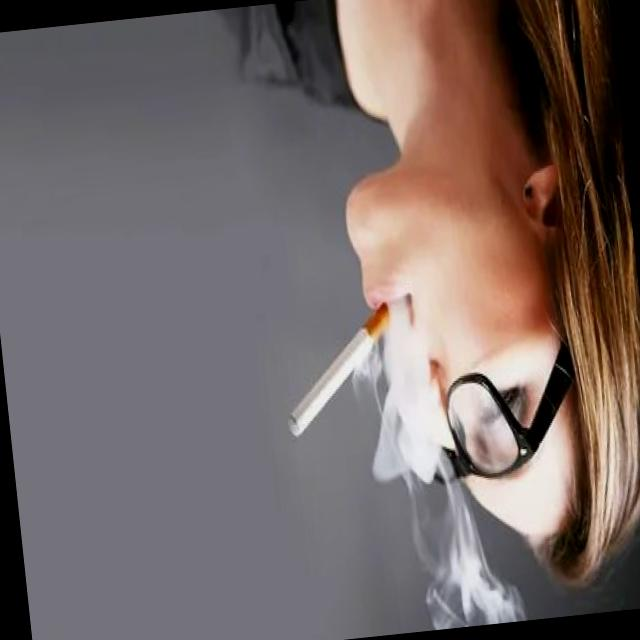cigarette: (272, 295, 406, 442)
